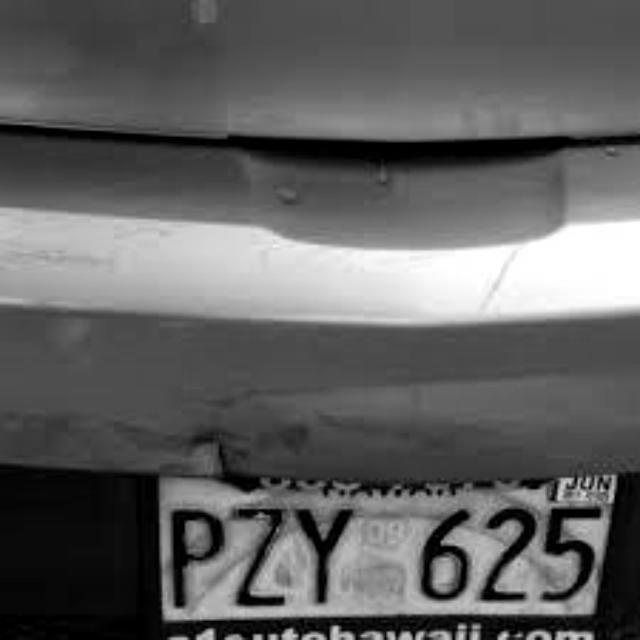front-bumper-dent: (46, 202, 634, 512)
